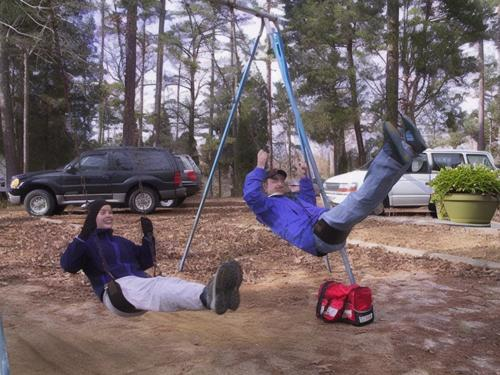car: (7, 147, 188, 218), (317, 149, 499, 216), (149, 156, 203, 210)
person: (241, 113, 429, 255), (51, 199, 243, 319)
person/foot: (382, 122, 413, 165), (206, 265, 230, 314), (401, 116, 428, 154), (229, 263, 243, 311)
person/hand: (79, 215, 96, 241), (141, 218, 155, 237), (257, 150, 269, 168), (297, 162, 309, 178)
person/head: (89, 201, 114, 229), (264, 170, 285, 195)
pottedplant: (429, 163, 500, 227)
